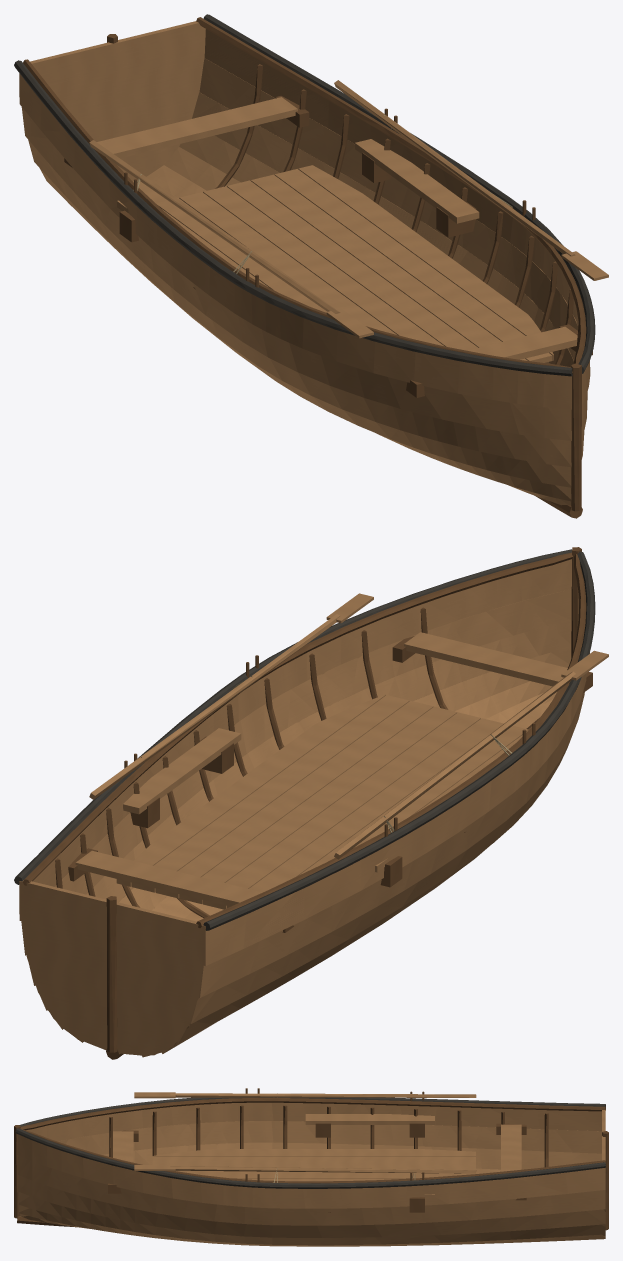
Rendered from ship_lod1.glb.
3 views of the same model, one above another, from view 1: azimuth 30°, elevation 25°; view 2: azimuth 150°, elevation 25°; view 3: azimuth 270°, elevation 25° (orthographic). The views are drawn at different scales.
Visible parts, largest first — view 1: lod1_strake_starboard_07, lod1_transom, lod1_strake_starboard_06, lod1_strake_starboard_05, lod1_strake_port_06, lod1_strake_port_07, lod1_gunwale_1_001, lod1_strake_port_05, lod1_sole_board_07, lod1_sole_board_06, lod1_sole_board_05, lod1_sole_board_08 (+19 smaller); view 2: lod1_transom, lod1_strake_port_07, lod1_strake_port_06, lod1_strake_starboard_07, lod1_strake_starboard_06, lod1_strake_port_05, lod1_strake_starboard_05, lod1_sole_board_06, lod1_sole_board_07, lod1_sole_board_04, lod1_sole_board_05, lod1_sole_board_03 (+16 smaller); view 3: lod1_strake_port_07, lod1_strake_port_06, lod1_strake_starboard_06, lod1_strake_starboard_07, lod1_strake_port_05, lod1_strake_port_04, lod1_gunwale_1, lod1_strake_starboard_05, lod1_inwale_1_001, lod1_sole_board_01, lod1_sole_board_00, lod1_strake_port_03 (+18 smaller).
Part boxes in pixels (bbox=[...]): lod1_strake_starboard_07: bbox=[19, 73, 571, 409]; lod1_transom: bbox=[30, 21, 205, 181]; lod1_strake_starboard_06: bbox=[21, 107, 571, 440]; lod1_strake_starboard_05: bbox=[28, 140, 571, 467]; lod1_strake_port_06: bbox=[199, 58, 587, 435]; lod1_strake_port_07: bbox=[204, 29, 590, 404]; lod1_gunwale_1_001: bbox=[14, 60, 572, 376]; lod1_strake_port_05: bbox=[192, 92, 584, 459]; lod1_sole_board_07: bbox=[274, 169, 552, 362]; lod1_sole_board_06: bbox=[250, 174, 527, 360]; lod1_sole_board_05: bbox=[227, 180, 477, 350]; lod1_sole_board_08: bbox=[298, 165, 553, 360]; lod1_transom: bbox=[19, 880, 205, 1055]; lod1_strake_port_07: bbox=[19, 559, 571, 920]; lod1_strake_port_06: bbox=[21, 589, 571, 955]; lod1_strake_starboard_07: bbox=[203, 653, 589, 965]; lod1_strake_starboard_06: bbox=[198, 593, 584, 997]; lod1_strake_port_05: bbox=[29, 623, 571, 985]; lod1_strake_starboard_05: bbox=[189, 742, 569, 1023]; lod1_sole_board_06: bbox=[155, 701, 433, 898]; lod1_sole_board_07: bbox=[131, 695, 409, 892]; lod1_sole_board_04: bbox=[203, 712, 480, 909]; lod1_sole_board_05: bbox=[179, 706, 457, 903]; lod1_sole_board_03: bbox=[227, 718, 503, 907]; lod1_strake_port_07: bbox=[17, 1134, 605, 1208]; lod1_strake_port_06: bbox=[17, 1155, 605, 1225]; lod1_strake_starboard_06: bbox=[58, 1121, 601, 1154]; lod1_strake_starboard_07: bbox=[26, 1102, 601, 1141]; lod1_strake_port_05: bbox=[18, 1175, 605, 1237]; lod1_strake_port_04: bbox=[18, 1192, 605, 1245]; lod1_gunwale_1: bbox=[15, 1128, 605, 1188]; lod1_strake_starboard_05: bbox=[101, 1142, 601, 1169]; lod1_inwale_1_001: bbox=[21, 1098, 605, 1130]; lod1_sole_board_01: bbox=[152, 1156, 475, 1163]; lod1_sole_board_00: bbox=[153, 1149, 475, 1156]; lod1_strake_port_03: bbox=[19, 1205, 605, 1246].
Bounding box in the file's own units: 1.97 × 1.1 × 5.46.
4 materials, 4 textured.
